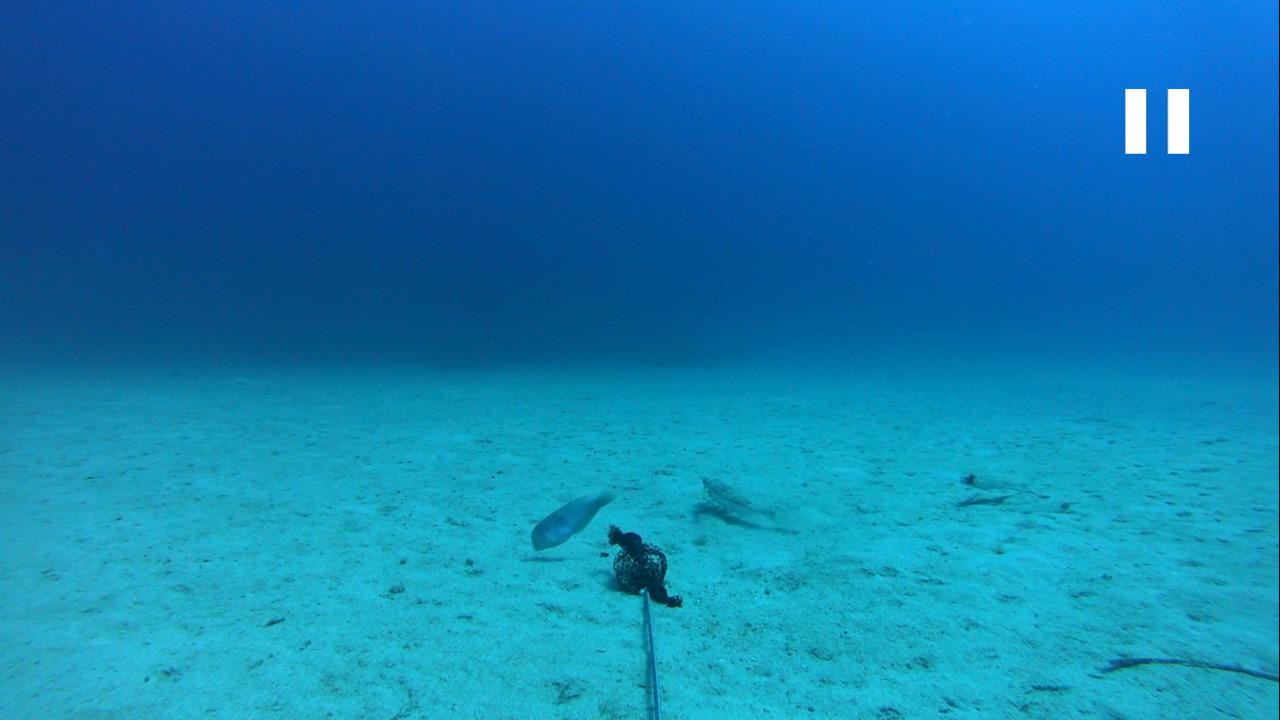dactylopterus: (687, 472, 801, 536), (947, 463, 1042, 507)
raor: (521, 485, 616, 560)
